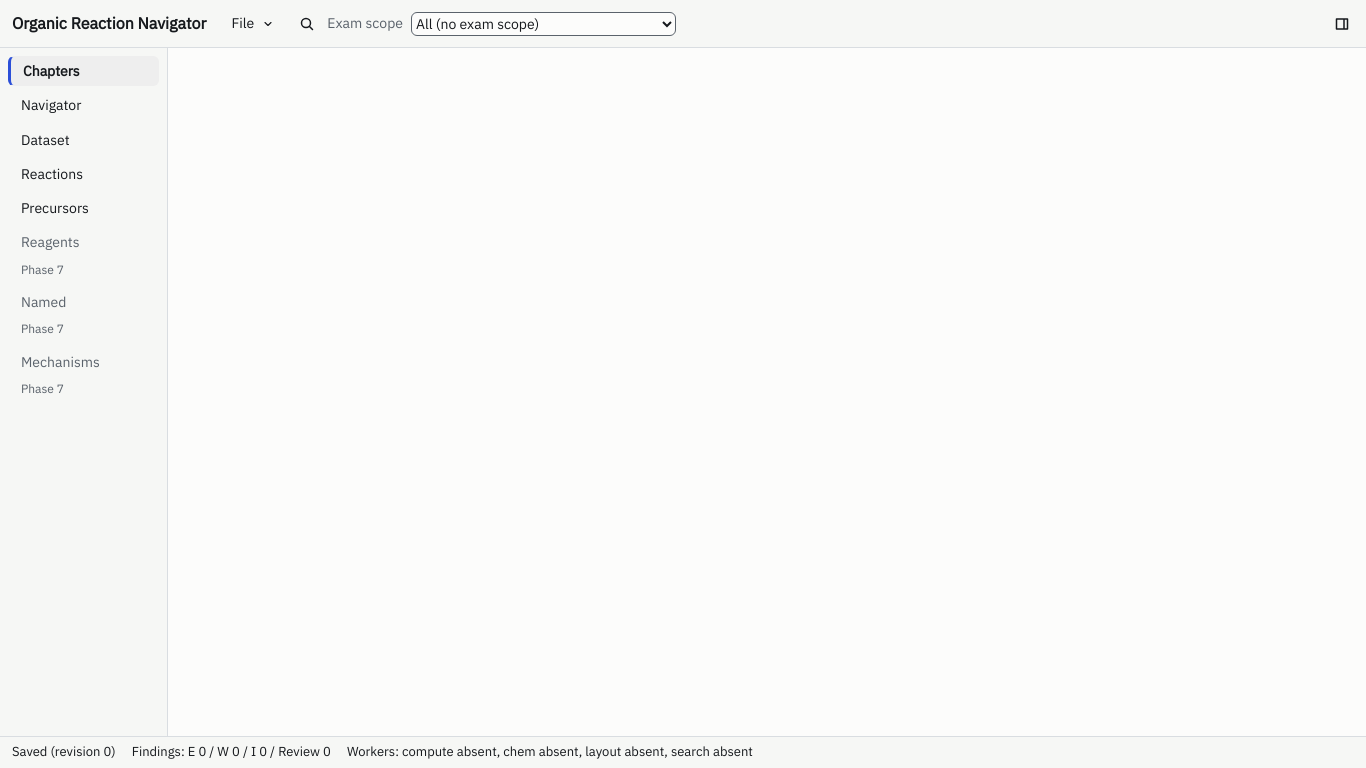
it: the Precursors mode › is enabled on the rail and opens the view with its prompt
The width and height of the screenshot is (1366, 768).
Click the button "Precursors": point(84, 208) x1=8 y1=193 x2=159 y2=224
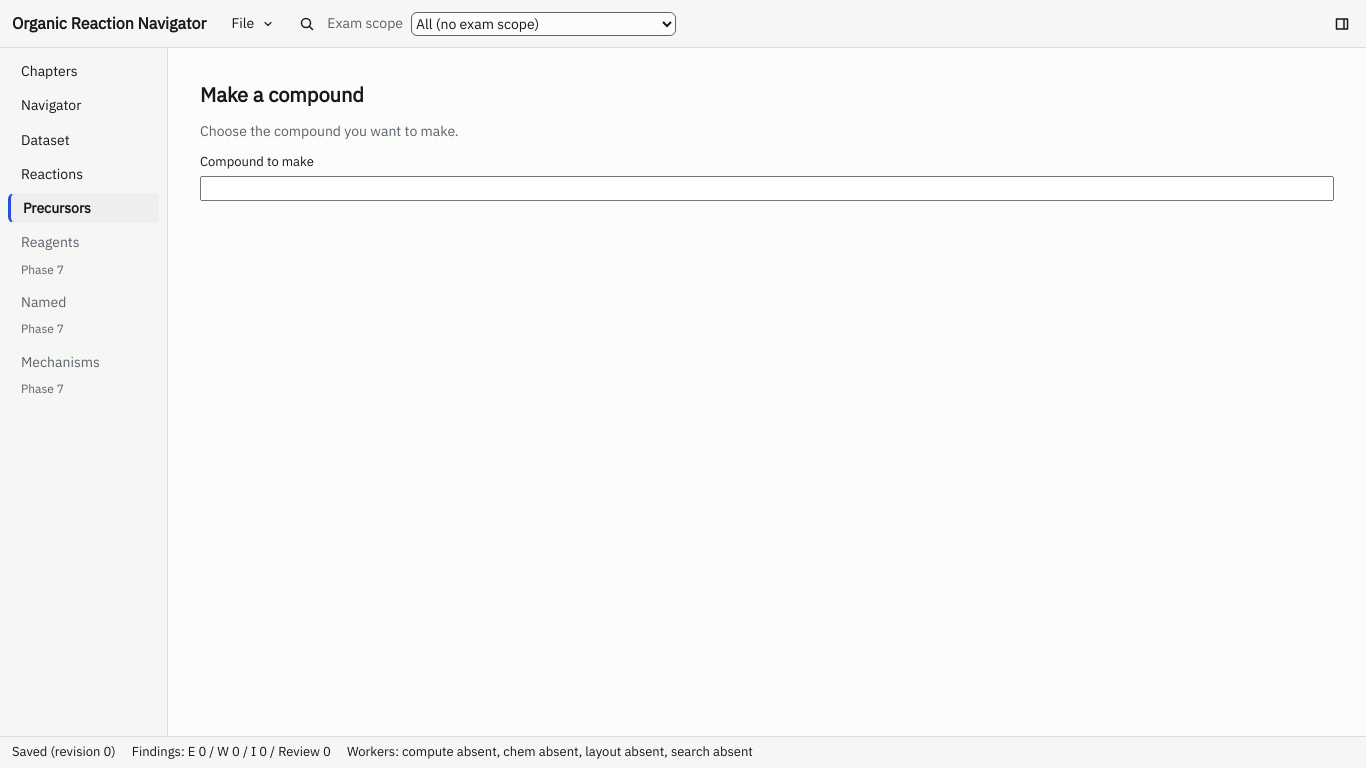
Result: the heading "Make a compound" is shown at x1=200 y1=80 x2=364 y2=109
Result: the text "Choose the compound you want to make." is shown at x1=200 y1=122 x2=459 y2=140
